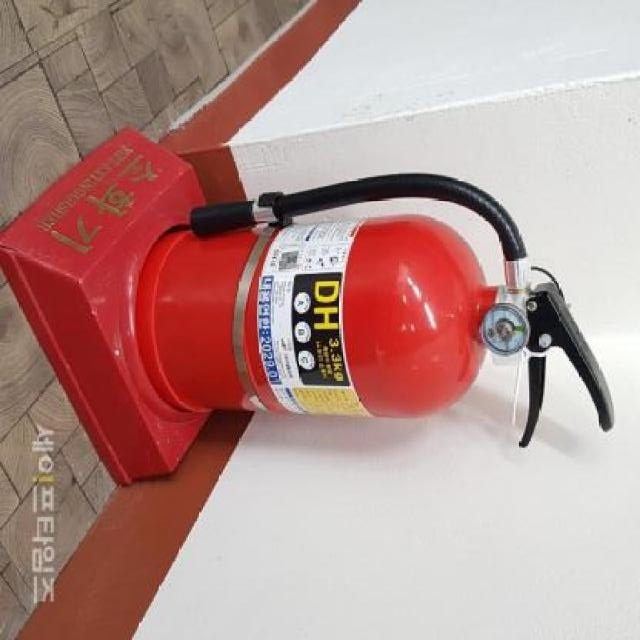fire extinguisher: (136, 172, 615, 448)
